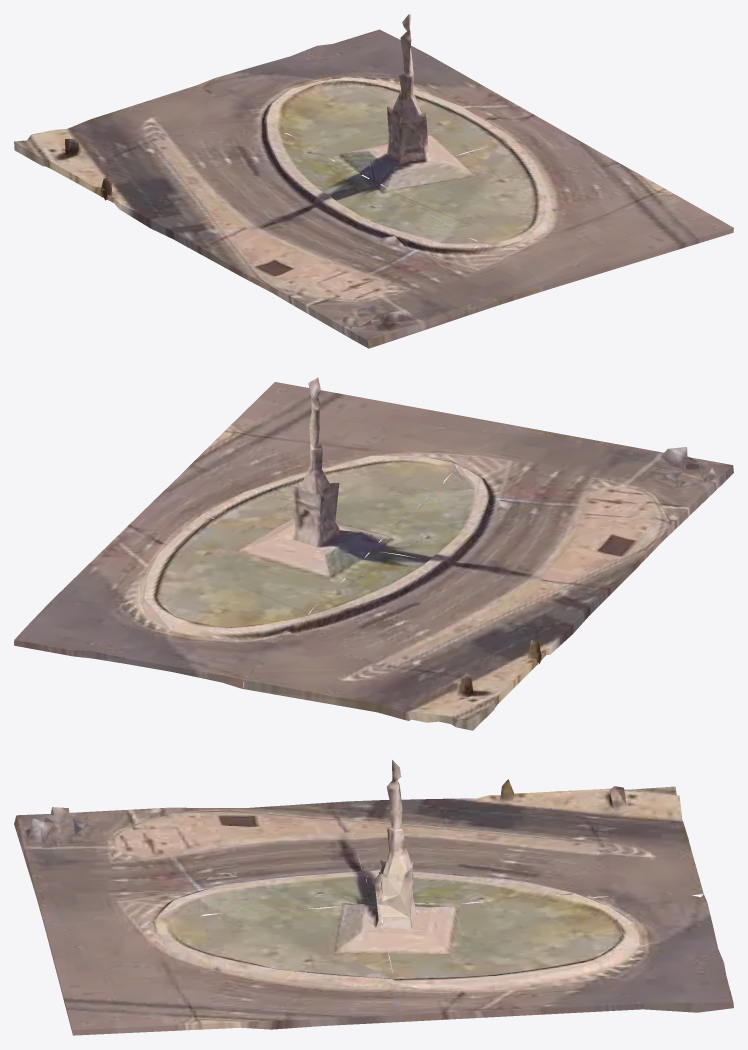
The picture shows the model from 3 angles, top to bottom: view 1: azimuth 30°, elevation 25°; view 2: azimuth 150°, elevation 25°; view 3: azimuth 270°, elevation 25°; orthographic projection. The views are drawn at different scales.
Parts seen in each view (by area): view 1: Mesh_0; view 2: Mesh_0; view 3: Mesh_0.
Boxes of the visible parts, box(x1,y1,x2,y2) form: Mesh_0: box(14, 14, 733, 348); Mesh_0: box(14, 377, 733, 730); Mesh_0: box(14, 760, 733, 1035).
Bounding box in the file's own units: 66.6 × 23.3 × 82.61.
1 material, 1 textured.
